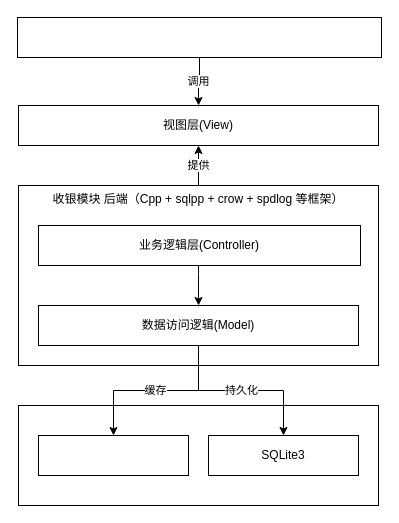
Some shapes in this 399 by 523 pixel diagram are drawn without their labels. The box of each missing label's shape, as (x1, y1, x2, y2) in pixels:
Redis: (38, 434, 188, 476)
前端 （独立，Web Vue.js）: (16, 16, 382, 58)
数据库: (18, 404, 378, 506)
